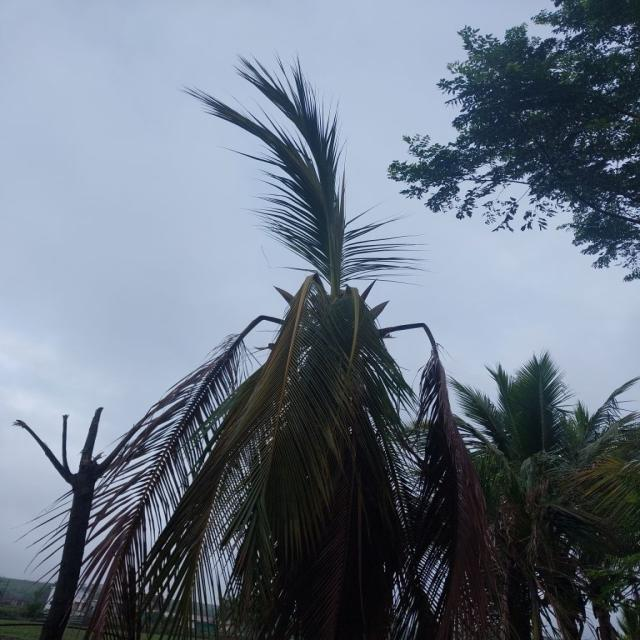bud root dropping: (80, 64, 495, 640)
